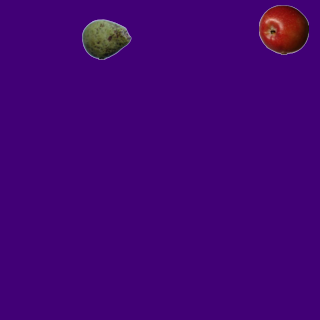Apple Braeburn: (258, 4, 308, 54)
Pear Stone: (81, 14, 131, 64)
